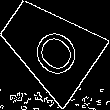O_NW: (18, 14, 80, 79)
